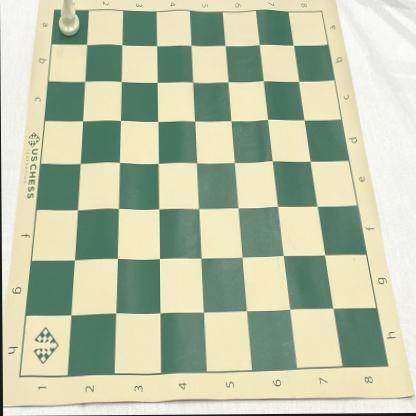white-knight: (58, 0, 82, 39)
